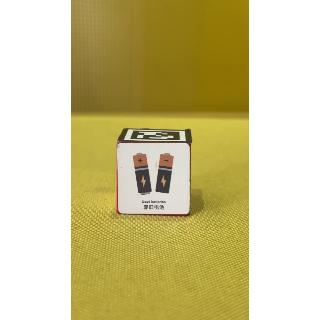Used_Battery: (121, 142, 194, 216)
